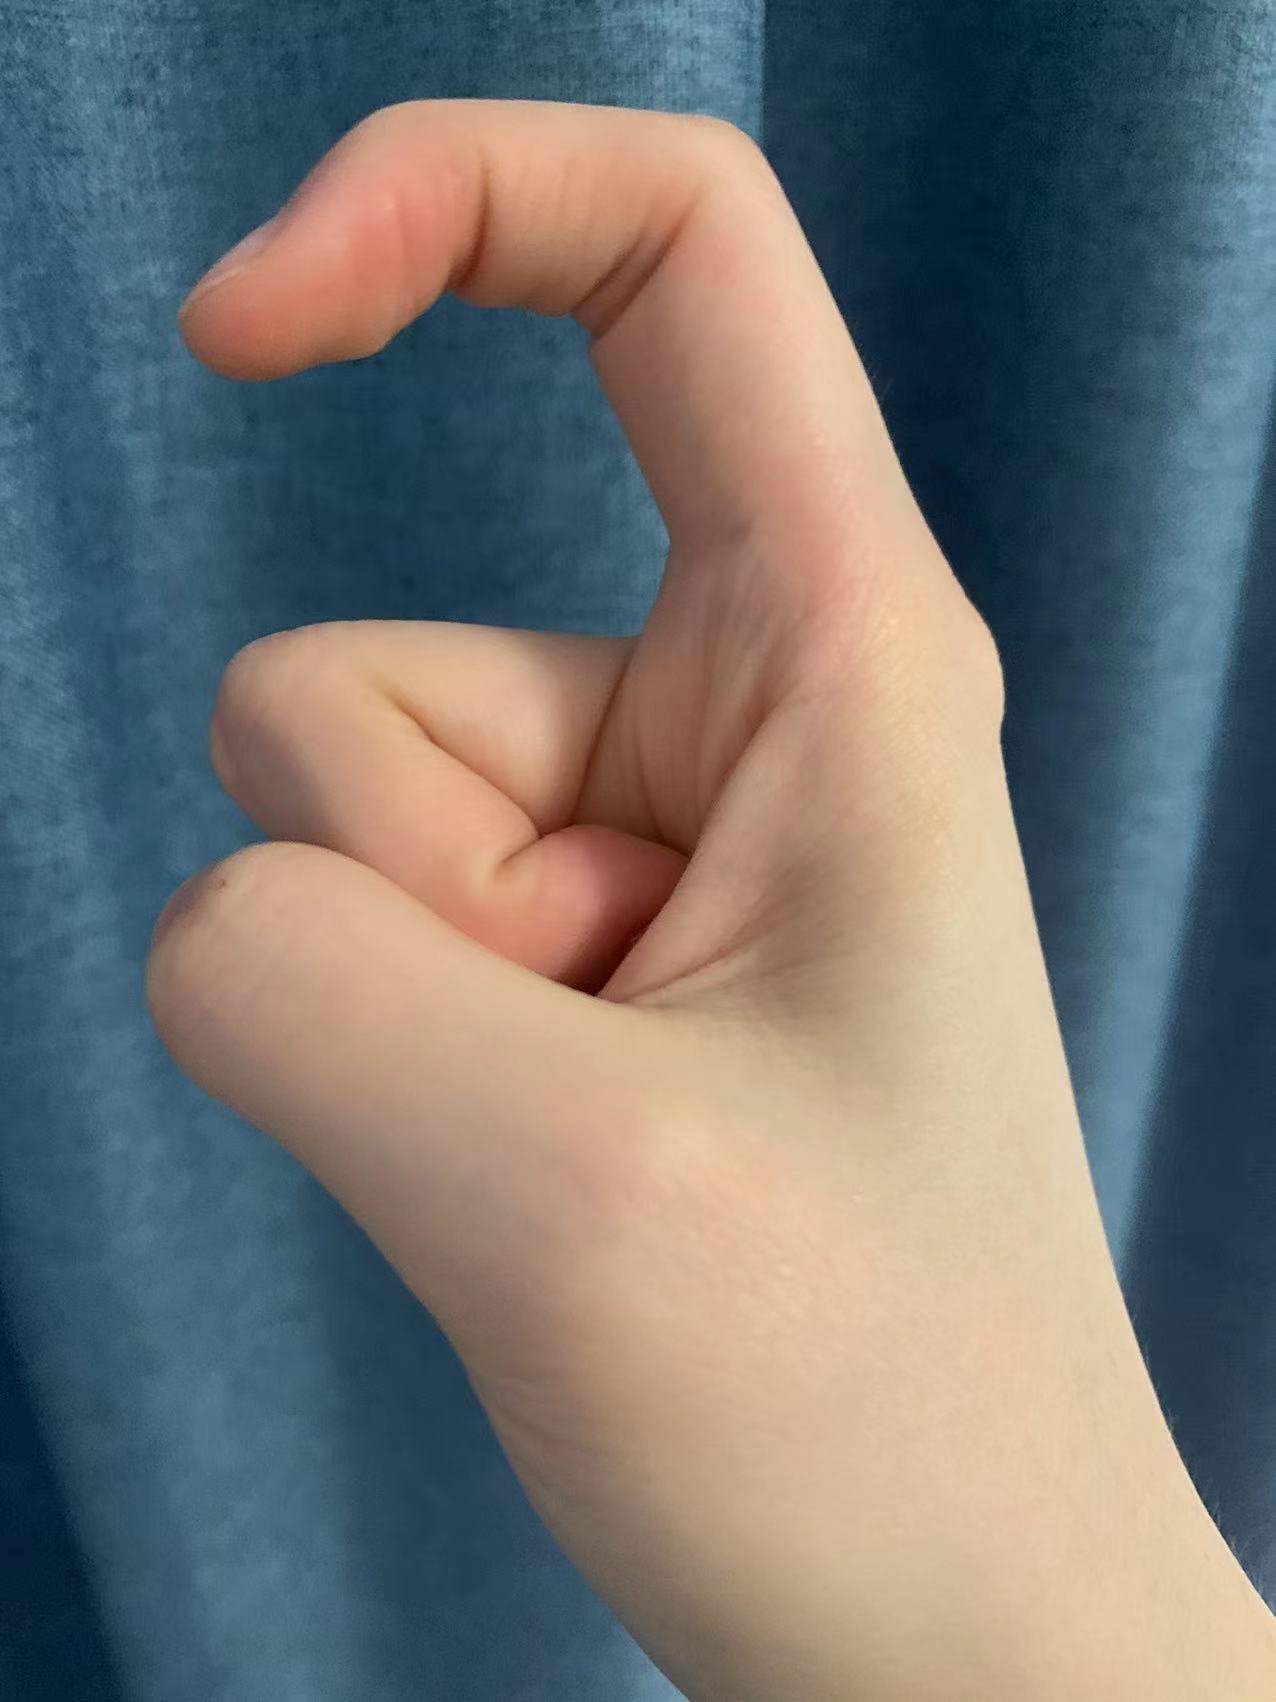anticlockwise: (92, 96, 1104, 1627)
